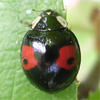Two_spots: (19, 9, 81, 93)
